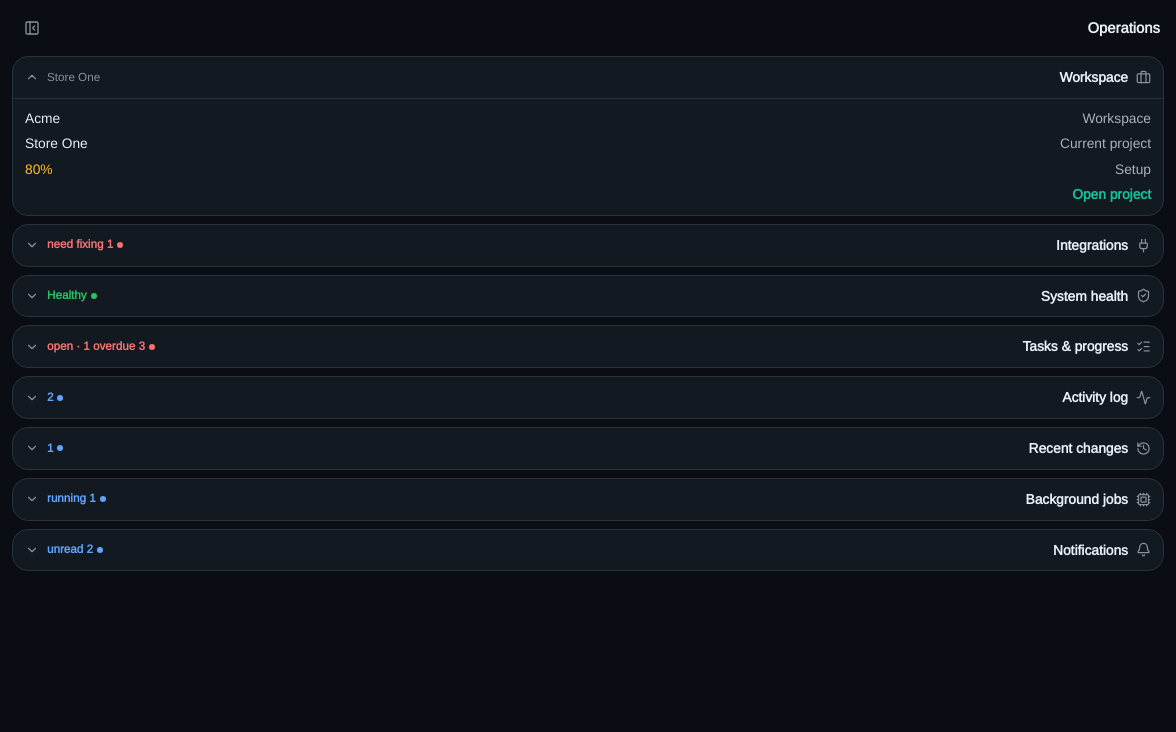
Scenario: OpsPanel › shows detail only once a section is expanded
Check: the element with test id "ops-integrations-status" is shown, box [47,236,123,254]
Check: the text "Agency Meta" is not shown
Click the button "Integrations 1 need fixing" at (1092, 245), box [13,225,1163,266]
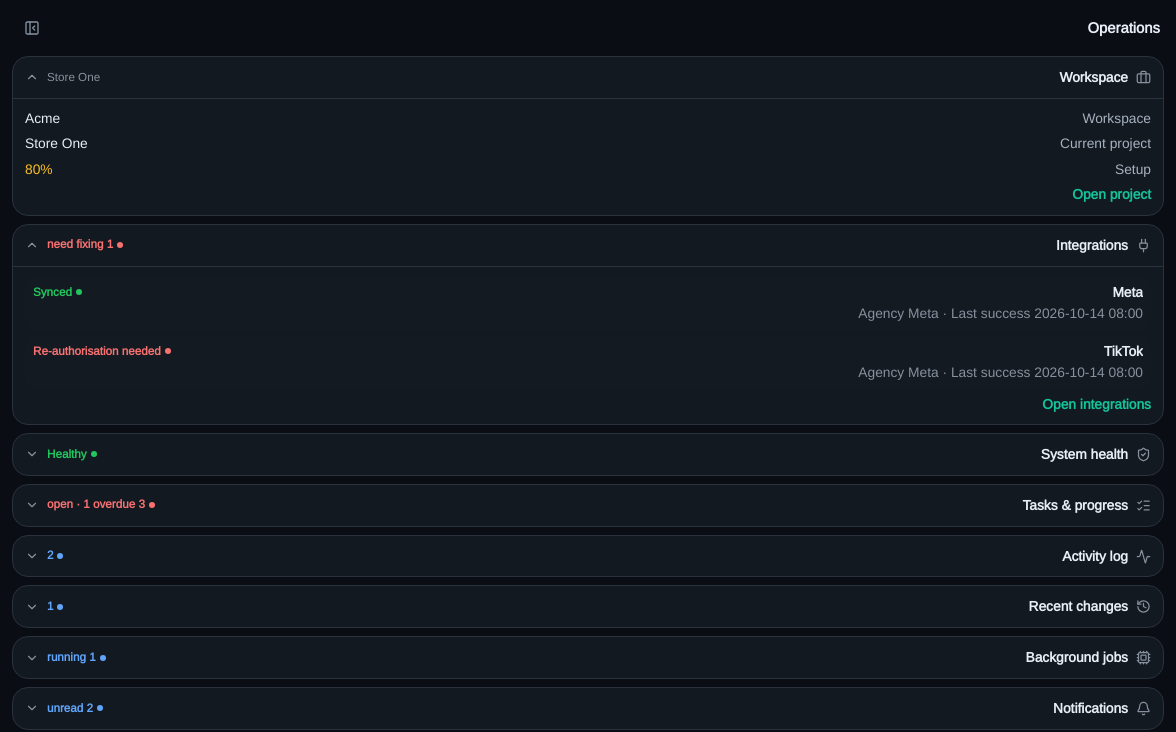
Check: the button "Integrations 1 need fixing" is expanded, box [13,225,1163,266]
Check: the text "Agency Meta · Last success 2026-10-14 08:00" is shown 2 times, box [858,305,1143,321]; [858,364,1143,380]
Check: the text "Re-authorisation needed" is shown, box [33,343,171,360]
